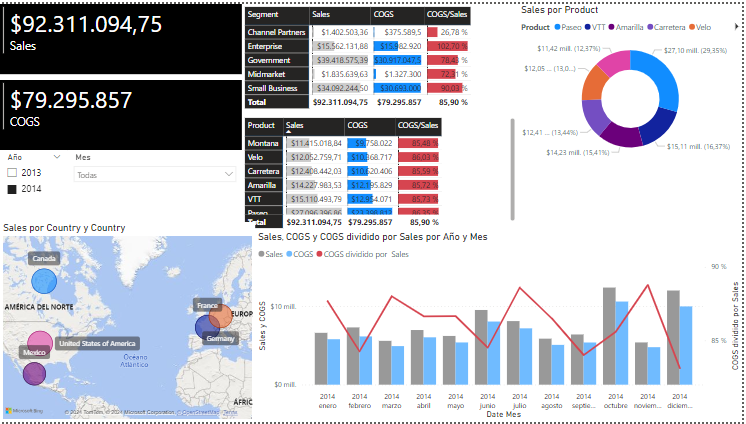

The dashboard page shown, as its layout file describes it:
{"tool":"powerbi","page":{"name":"Página 1","canvas":[1280,720],"ordinal":0},"visuals":[{"type":"donutChart","fields":{"Category":["financials.Product"],"Y":["Sum(financials. Sales)"]},"box":[892.8,0,387.4,279.4],"z":0},{"type":"pivotTable","fields":{"Values":["Sum(financials. Sales)","Sum(financials.COGS)","financials.COGS dividido por  Sales"],"Rows":["financials.Product"]},"box":[417.2,191.4,475.9,200],"z":1000},{"type":"lineClusteredColumnComboChart","fields":{"Category":["financials.Date.Variación.Jerarquía de fechas.Año","financials.Date.Variación.Jerarquía de fechas.Mes"],"Y":["Sum(financials. Sales)","Sum(financials.COGS)"],"Y2":["financials.COGS dividido por  Sales"]},"box":[439.7,391.4,839.7,329.3],"z":2000},{"type":"map","fields":{"Category":["financials.Country"],"Series":["financials.Country"],"Size":["Sum(financials. Sales)"]},"box":[0,375.9,439.7,344.8],"z":3000},{"type":"pivotTable","fields":{"Rows":["financials.Segment"],"Values":["Sum(financials. Sales)","Sum(financials.COGS)","financials.COGS dividido por  Sales"]},"box":[417.2,0,475.9,191.4],"z":4000},{"type":"multiRowCard","fields":{"Values":["Sum(financials. Sales)"]},"box":[0,0,417.2,120.7],"z":5000},{"type":"multiRowCard","fields":{"Values":["Sum(financials.COGS)"]},"box":[0,131,417.2,120.7],"z":6000},{"type":"slicer","fields":{"Values":["financials.Date.Variación.Jerarquía de fechas.Año"]},"box":[0,251.7,117.2,108.6],"z":7000},{"type":"slicer","fields":{"Values":["financials.Date.Variación.Jerarquía de fechas.Mes"]},"box":[117.2,251.7,300,108.6],"z":8000}]}

Visuals, with their boxes in screenshot pixels (x1, y1, x2, y2), scaled from the page's 1280x720 canvas onto the 746x424 screenshot:
donutChart - financials.Product x Sum(financials. Sales): select_region(520, 0, 745, 165)
pivotTable - Sum(financials. Sales) x Sum(financials.COGS): select_region(243, 113, 521, 230)
lineClusteredColumnComboChart - financials.Date.Variación.Jerarquía de fechas.Año x financials.Date.Variación.Jerarquía de fechas.Mes: select_region(256, 230, 745, 423)
map - financials.Country x financials.Country: select_region(0, 221, 256, 423)
pivotTable - financials.Segment x Sum(financials. Sales): select_region(243, 0, 521, 113)
multiRowCard - Sum(financials. Sales): select_region(0, 0, 243, 71)
multiRowCard - Sum(financials.COGS): select_region(0, 77, 243, 148)
slicer - financials.Date.Variación.Jerarquía de fechas.Año: select_region(0, 148, 68, 212)
slicer - financials.Date.Variación.Jerarquía de fechas.Mes: select_region(68, 148, 243, 212)
